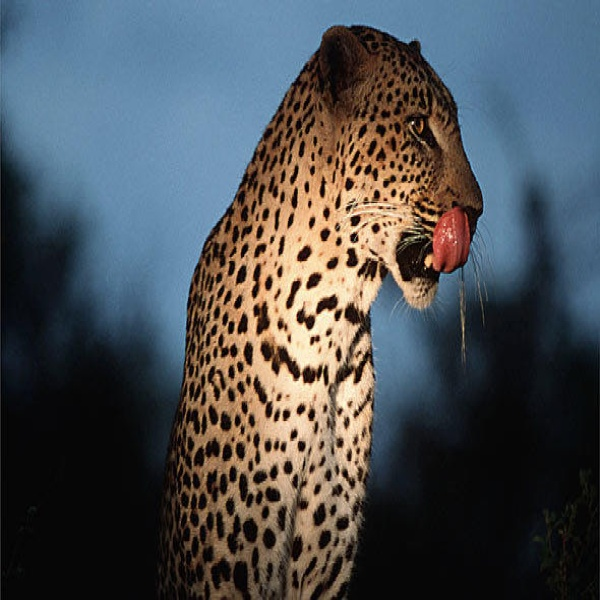Leopard: (158, 20, 489, 600)
